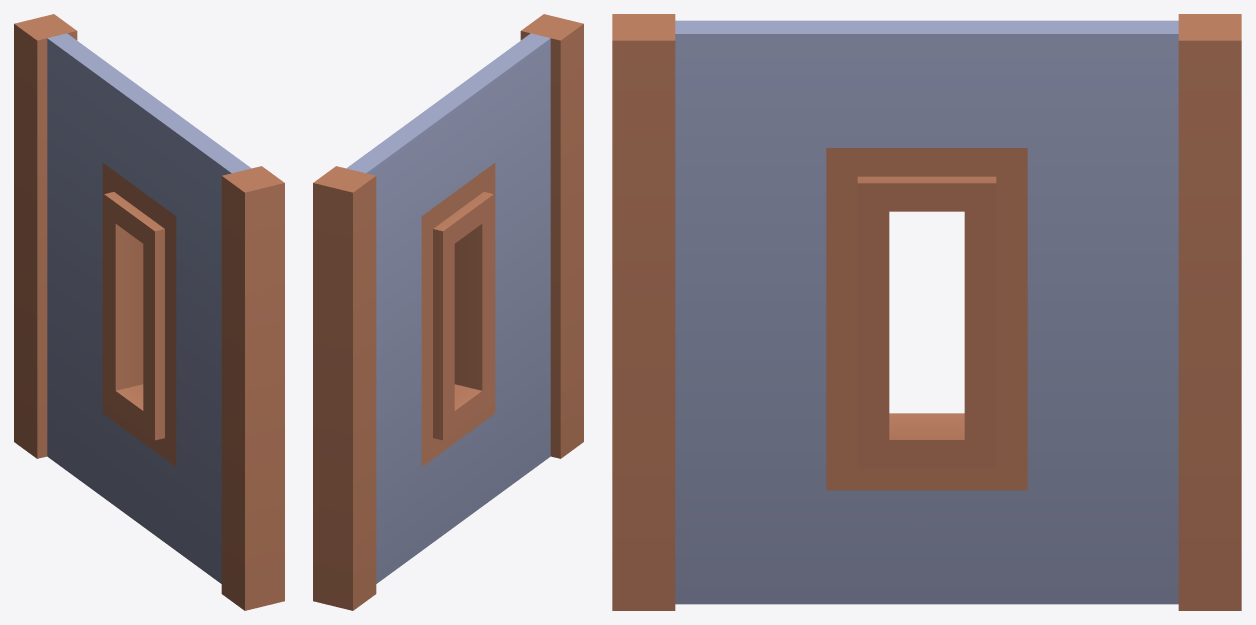
File: wall_window_small.glb
3 renders of one model, left to right at view 1: azimuth 30°, elevation 25°; view 2: azimuth 150°, elevation 25°; view 3: azimuth 270°, elevation 25°, orthographic. The views are drawn at different scales.
Visible parts, largest first — view 1: wall-window-small; view 2: wall-window-small; view 3: wall-window-small.
Part boxes in pixels (x1,y1,x2,y2): wall-window-small: (14, 14, 284, 610); wall-window-small: (313, 14, 583, 610); wall-window-small: (612, 14, 1241, 610).
Bounding box in the file's own units: 0.1 × 1 × 1.
1 material, 1 textured.
